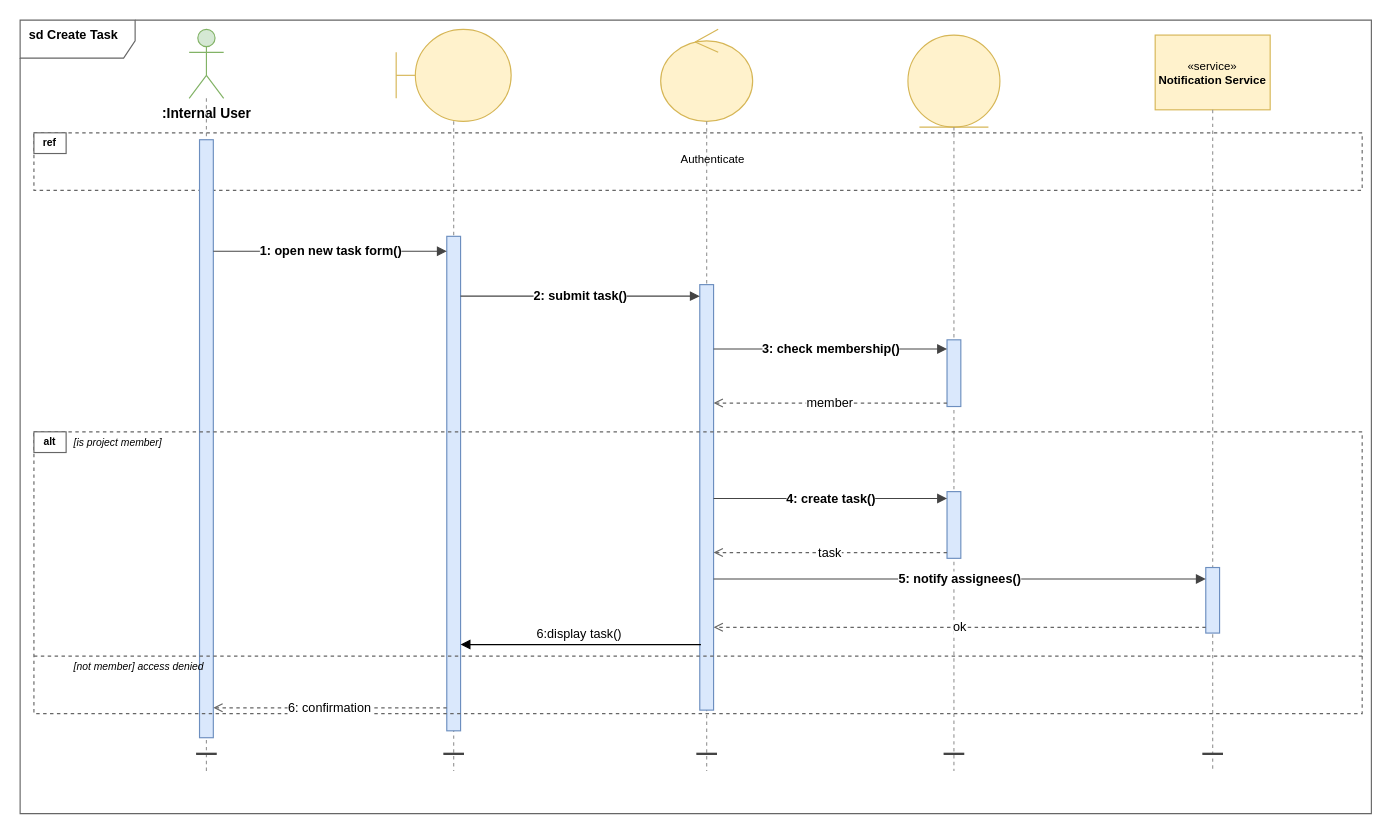
The diagram is 1392 pixels wide and 834 high, and some of its shapes have lost their labels. The centre of each missing label's shape, as x and y in pixels:
"Workspace Controller" goes at (706,74).
"«boundary» Tasks Interface" goes at (453,74).
"«entity» Task" goes at (953,80).
